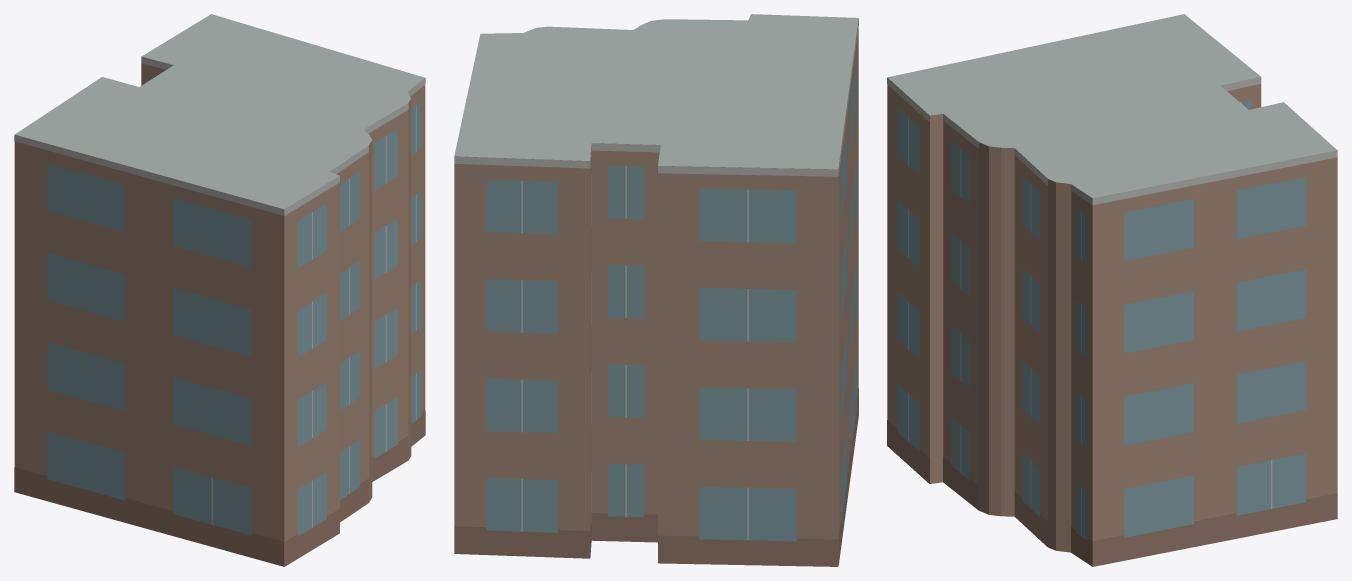
File: survey-upis-32741330.glb
3 views of the same model, side by side, from view 1: azimuth 30°, elevation 25°; view 2: azimuth 150°, elevation 25°; view 3: azimuth 270°, elevation 25° (orthographic). The views are drawn at different scales.
Parts seen in each view (by area): view 1: survey-upis-32741330.tmp; view 2: survey-upis-32741330.tmp; view 3: survey-upis-32741330.tmp.
Boxes of the visible parts, box(x1,y1,x2,y2) form: survey-upis-32741330.tmp: box(14, 14, 425, 566); survey-upis-32741330.tmp: box(454, 14, 858, 566); survey-upis-32741330.tmp: box(887, 14, 1337, 566).
Size of the model in its own units: 13.95 by 13 by 14.41.
